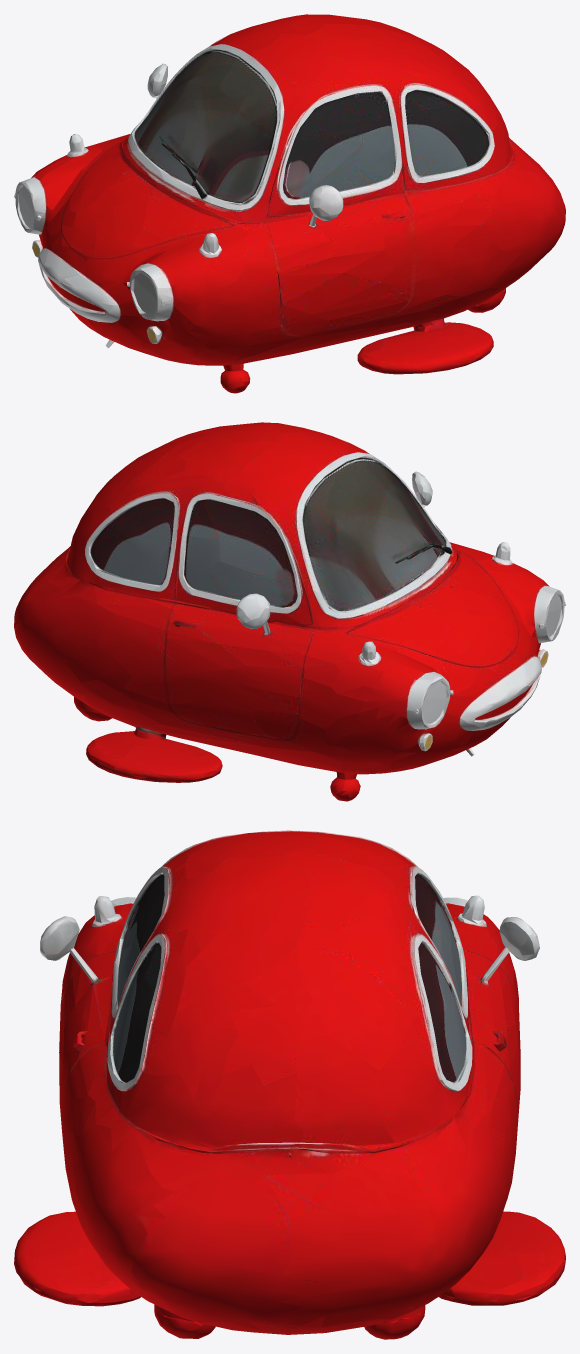
Rendered from skycar.glb.
The picture shows the model from 3 angles, top to bottom: view 1: azimuth 30°, elevation 25°; view 2: azimuth 150°, elevation 25°; view 3: azimuth 270°, elevation 25°; orthographic projection. The views are drawn at different scales.
Parts seen in each view (by area): view 1: Mesh_0; view 2: Mesh_0; view 3: Mesh_0.
Boxes of the visible parts, x1,y1,x2,y2 form: Mesh_0: (14,14,565,393); Mesh_0: (14,422,565,801); Mesh_0: (14,830,565,1339).
Bounding box in the file's own units: 1.9 × 1.12 × 1.4.
1 material, 1 textured.
